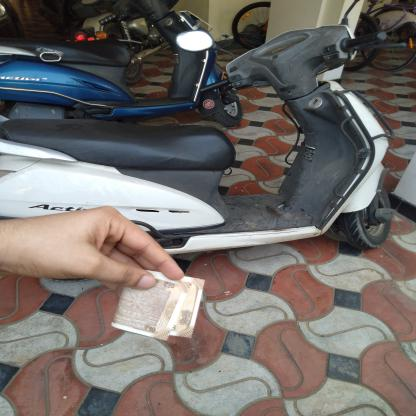New10Back: (113, 271, 182, 342)
